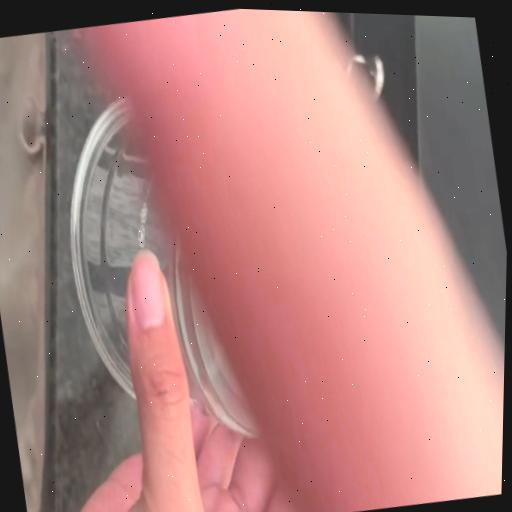ly_nhua: (69, 99, 255, 436)
